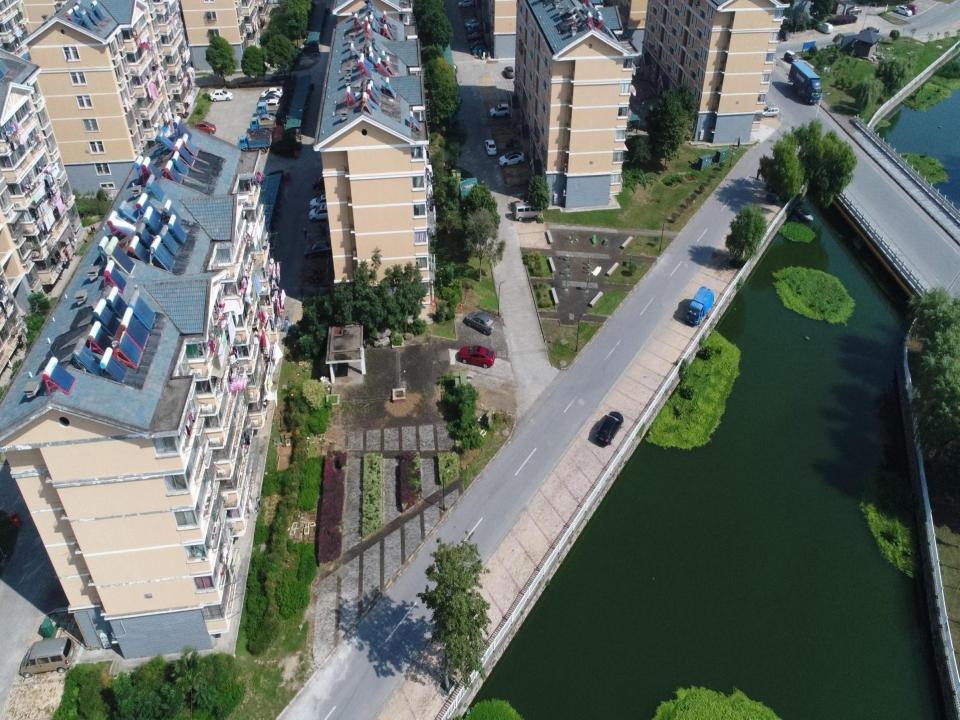car: (596, 411, 624, 445), (458, 344, 495, 369), (466, 310, 497, 336), (304, 239, 333, 260), (498, 150, 526, 168), (308, 205, 335, 223), (312, 172, 334, 192), (309, 194, 334, 210), (194, 120, 216, 137), (488, 103, 511, 119), (209, 89, 233, 101), (255, 113, 277, 125), (758, 105, 778, 118), (261, 87, 284, 98), (484, 138, 498, 156), (258, 98, 280, 109), (894, 4, 912, 17), (816, 21, 833, 34), (468, 38, 486, 50), (464, 17, 480, 30), (845, 4, 862, 16), (471, 44, 488, 56), (259, 93, 281, 102), (784, 50, 798, 64), (776, 26, 790, 40), (864, 26, 880, 38), (467, 30, 483, 42), (442, 62, 457, 74), (466, 23, 482, 34), (904, 3, 918, 15), (458, 0, 474, 9), (505, 65, 515, 79)
truck: (787, 61, 821, 104), (686, 286, 714, 325), (237, 132, 272, 155), (249, 115, 277, 134), (256, 101, 283, 117)
van: (19, 635, 75, 679), (514, 201, 541, 221)
